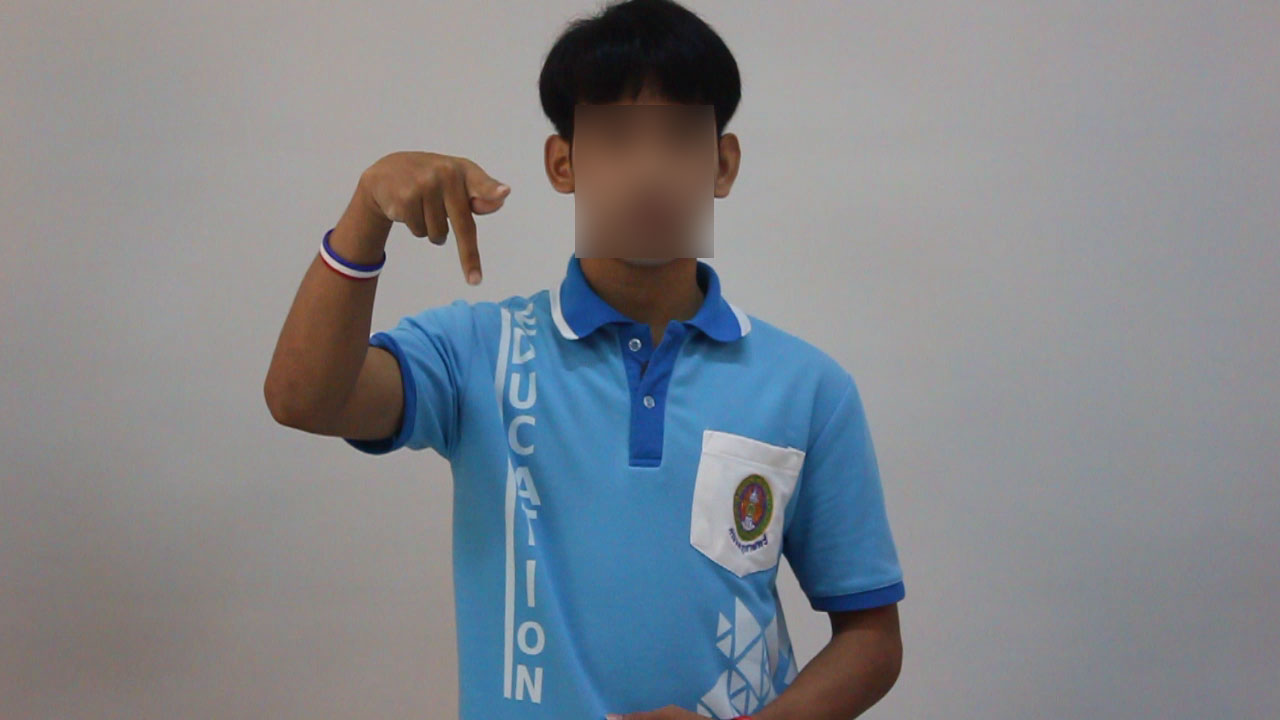por: (347, 125, 515, 296)
